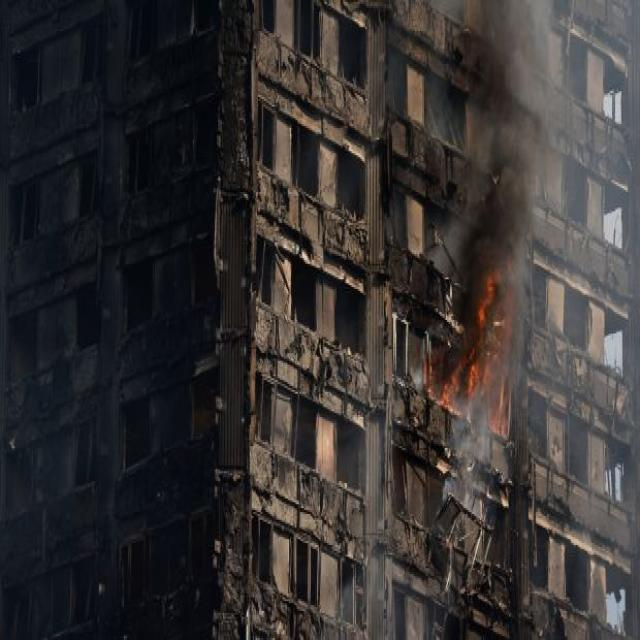fire: (435, 338, 488, 402)
smoke: (452, 0, 564, 262), (450, 415, 484, 498)
